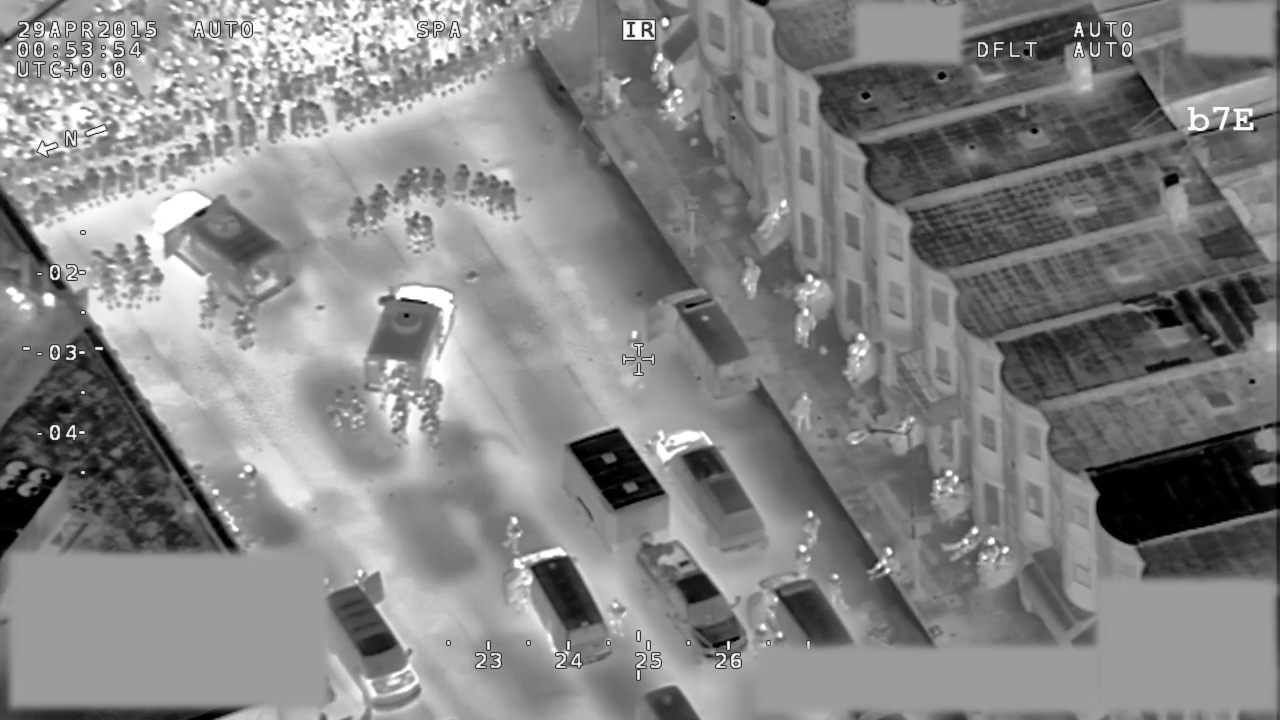vehicle: (142, 183, 302, 309), (648, 424, 774, 562), (502, 538, 616, 667), (561, 416, 672, 548), (639, 285, 760, 406), (634, 538, 749, 663), (326, 570, 423, 715), (364, 278, 460, 392), (742, 572, 857, 649)
